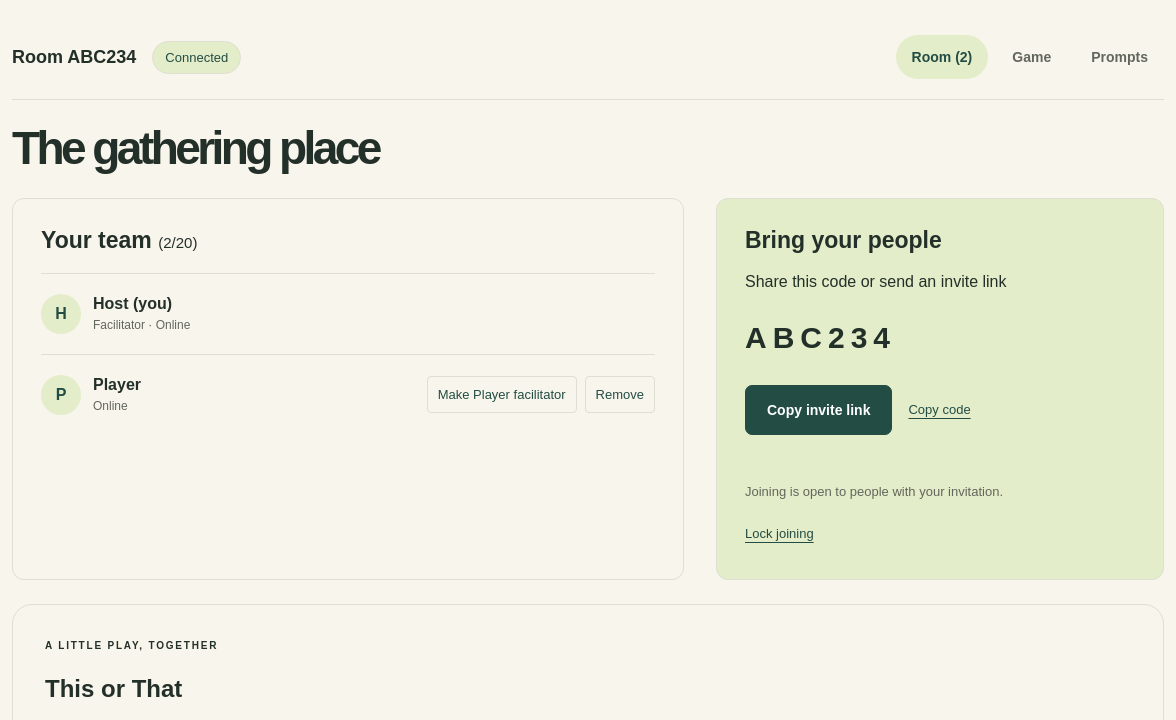
Test: room lobby › copies both the invitation and code and reports clipboard failures
(page scrolled)
Click the button "Copy invite link".
click(819, 410)  # box [745,385,892,435]
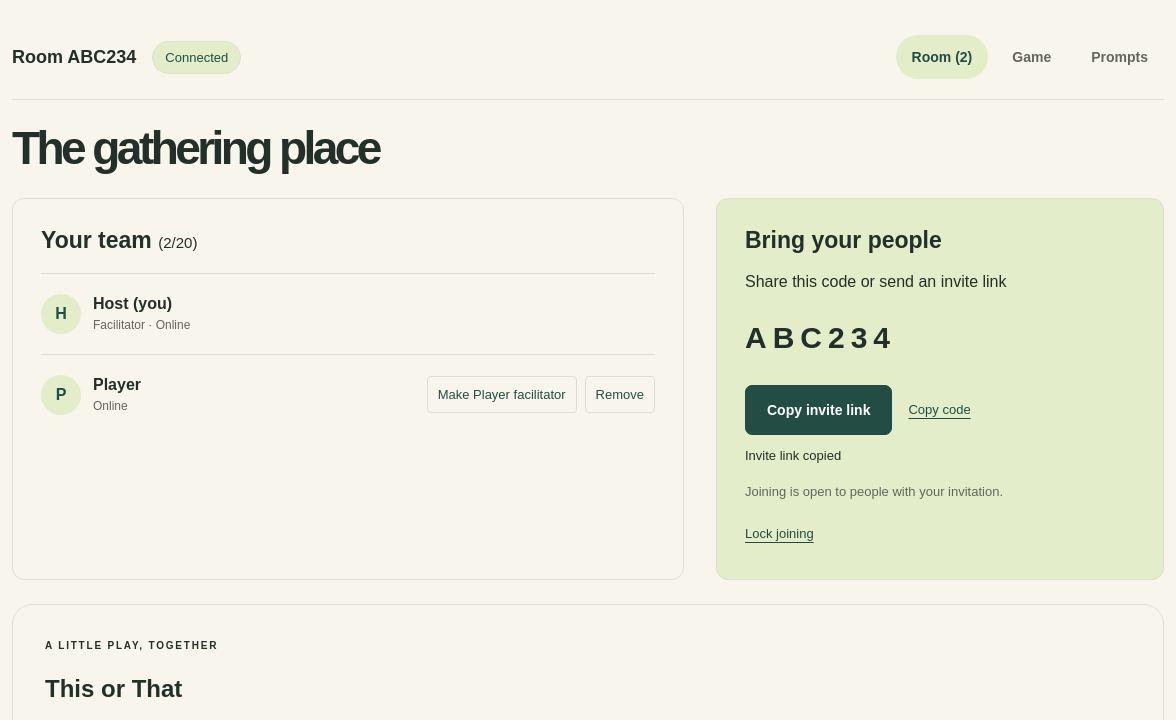
expect the text "Invite link copied" is shown: met, box [745,448,841,463]
Click the button "Copy code".
click(940, 410)  # box [908,392,971,427]
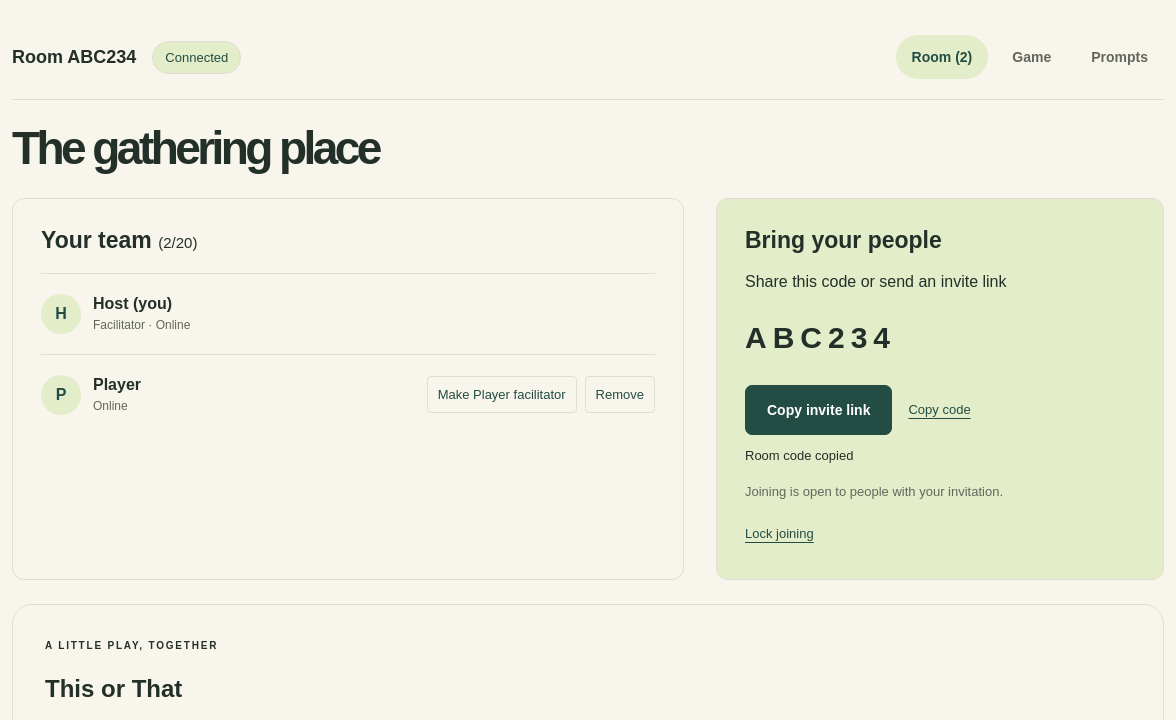
expect the text "Room code copied" is shown: met, box [745,448,853,463]
Click the button "Copy code".
click(940, 410)  # box [908,392,971,427]
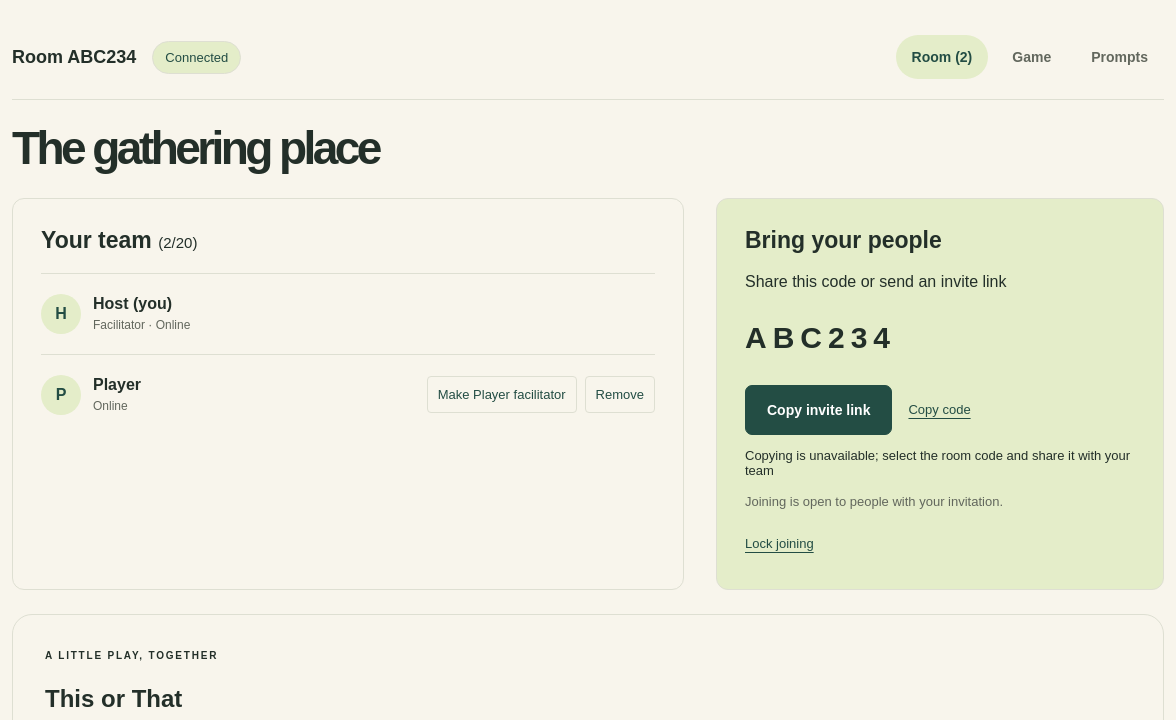
expect the text "Copying is unavailable; select the room code and share it with your team" is shown: met, box [745,448,1135,478]
